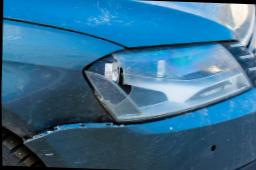Bonnet: (3, 0, 256, 48)
Bumper: (23, 88, 256, 170)
Fender: (1, 21, 125, 136)
Light: (82, 41, 256, 126)
